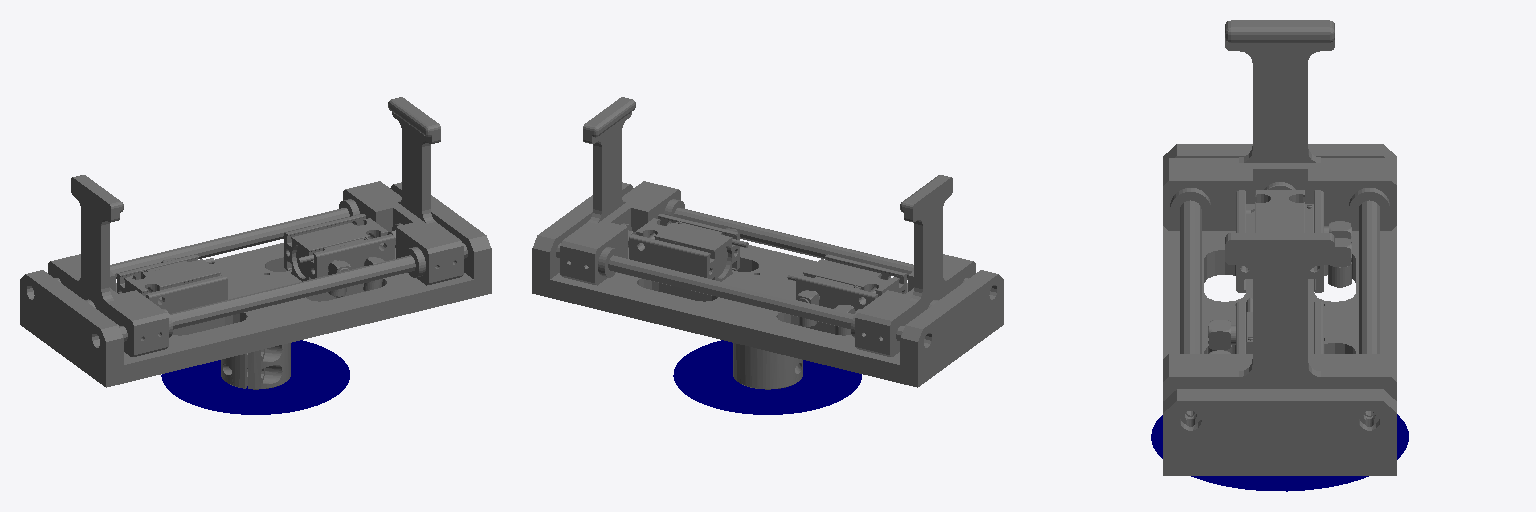
The robot description file, URDF, robot "end_effector_l.SLDASM":
<?xml version="1.0" encoding="utf-8"?>
<!-- This URDF was automatically created by SolidWorks to URDF Exporter! Originally created by [author] ([email redacted]) 
     Commit Version: 1.6.0-4-g7f85cfe  Build Version: 1.6.7995.38578
     For more information, please see http://wiki.ros.org/sw_urdf_exporter -->
<robot
  name="end_effector_l.SLDASM">
  <link
    name="e_in">
    <inertial>
      <origin
        xyz="-0.00011964 -0.00011996 0.048642"
        rpy="0 0 0" />
      <mass
        value="0.36353" />
      <inertia
        ixx="0.0002852"
        ixy="4.8463E-06"
        ixz="5.8994E-07"
        iyy="0.0018787"
        iyz="7.1124E-07"
        izz="0.00197" />
    </inertial>
    <visual>
      <origin
        xyz="0 0 0"
        rpy="0 0 0" />
      <geometry>
        <mesh
          filename="package://end_effector_l.SLDASM/meshes/e_in.STL" />
      </geometry>
      <material
        name="blue">
        <color
          rgba="0 0 0.5 1" />
      </material>
    </visual>
    <collision>
      <origin
        xyz="0 0 0"
        rpy="0 0 0" />
      <geometry>
        <mesh
          filename="package://end_effector_l.SLDASM/meshes/e_in.STL" />
      </geometry>
    </collision>
  </link>
  <link
    name="e_body">
    <inertial>
      <origin
        xyz="-0.00011964 -0.00011996 0.048642"
        rpy="0 0 0" />
      <mass
        value="0.36353" />
      <inertia
        ixx="0.0001853"
        ixy="9.8589E-08"
        ixz="7.6656E-08"
        iyy="0.00081407"
        iyz="1.3478E-07"
        izz="0.00093275" />
    </inertial>
    <visual>
      <origin
        xyz="0 0 0"
        rpy="0 0 0" />
      <geometry>
        <mesh
          filename="package://end_effector_l.SLDASM/meshes/e_body.STL" />
      </geometry>
      <material
        name="body">
        <color
          rgba="0.5 0.5 0.5 1" />
      </material>
    </visual>
    <collision>
      <origin
        xyz="0 0 0"
        rpy="0 0 0" />
      <geometry>
        <mesh
          filename="package://end_effector_l.SLDASM/meshes/e_body.STL" />
      </geometry>
    </collision>
  </link>
  <joint
    name="e_large"
    type="fixed">
    <origin
      xyz="0 0 0"
      rpy="0 0 0" />
    <parent
      link="e_in" />
    <child
      link="e_body" />
    <axis
      xyz="0 0 0" />
  </joint>
</robot>

--- What the picture shows (computed from the rendered views, not written in the file) ---
The picture shows the robot from 3 angles, left to right: view 1: azimuth 30°, elevation 25°; view 2: azimuth 150°, elevation 25°; view 3: azimuth 270°, elevation 25°; orthographic projection.
Robot: end_effector_l.SLDASM — 2 links, 1 joints (1 fixed); root link e_in; default pose: all joints at 0.
Visible links, largest first — view 1: e_body, e_in; view 2: e_body, e_in; view 3: e_body, e_in.
Boxes of the visible links, x1,y1,x2,y2 form: e_body: (20,97,491,389); e_in: (161,340,349,414); e_body: (532,97,1003,389); e_in: (673,340,861,414); e_body: (1163,20,1396,475); e_in: (1151,414,1408,491).
Size in the robot's own frame: 0.221 by 0.0939 by 0.123 metres.
Meshes: 2 distinct files referenced, 2 mesh visuals loaded (2 binary STL).